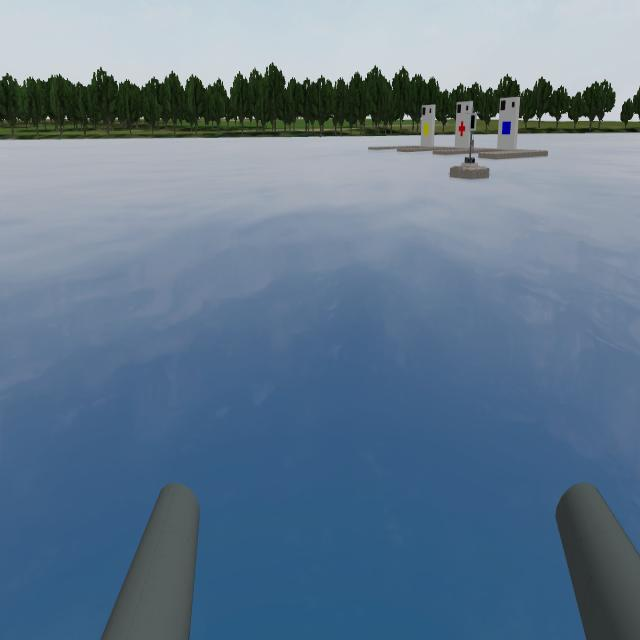black_pole: (467, 106, 477, 146)
